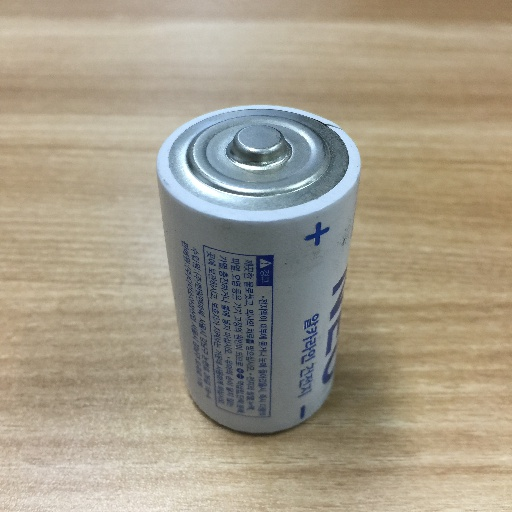Battery_0: (146, 97, 373, 447)
